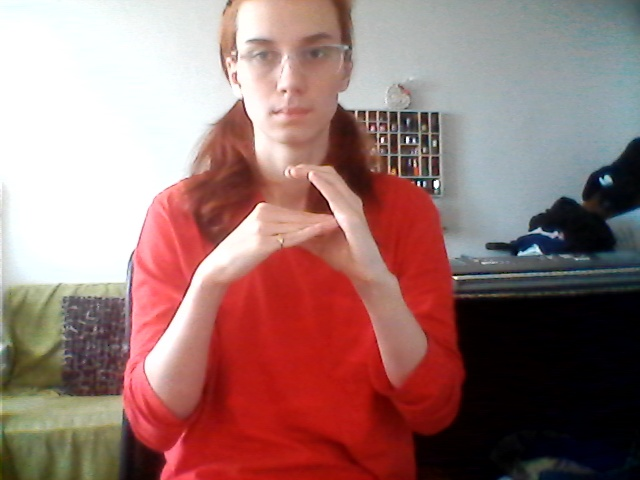e: (225, 158, 378, 288)
